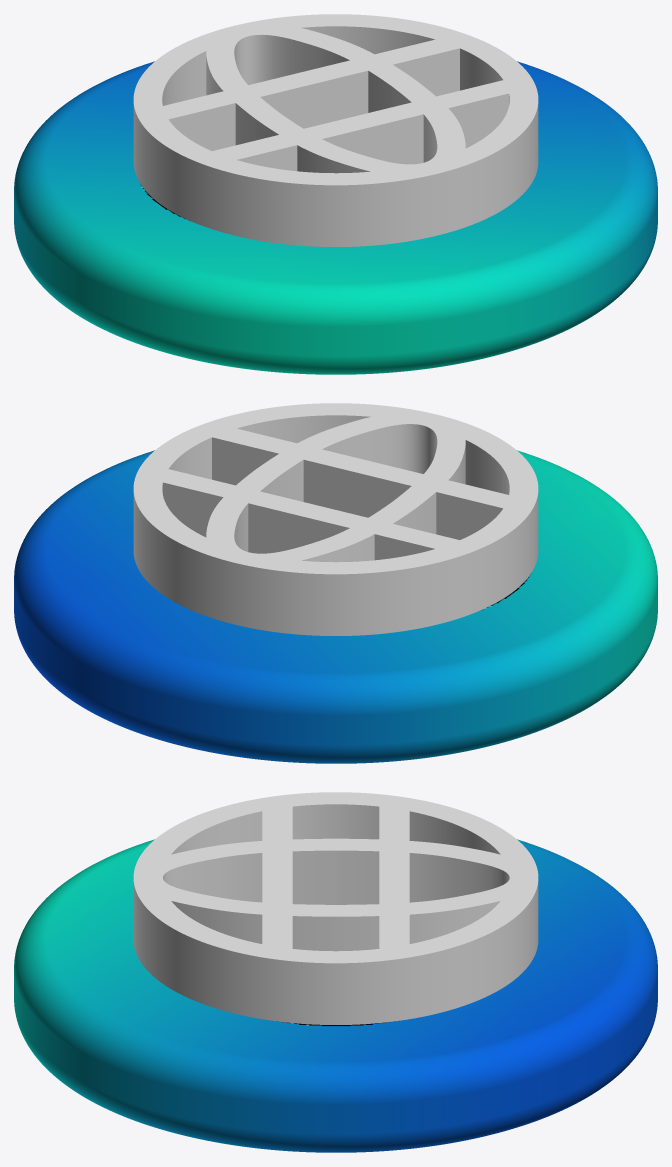
The model's file is website.glb.
The picture shows the model from 3 angles, top to bottom: view 1: azimuth 30°, elevation 25°; view 2: azimuth 150°, elevation 25°; view 3: azimuth 270°, elevation 25°; orthographic projection.
Parts seen in each view (by area): view 1: Object_3.001; view 2: Object_3.001; view 3: Object_3.001.
Boxes of the visible parts, x1,y1,x2,y2 form: Object_3.001: (14,14,657,374); Object_3.001: (14,403,657,763); Object_3.001: (14,792,657,1152).
Bounding box in the file's own units: 3.14 × 0.8059 × 3.14.
2 materials, 1 textured.
